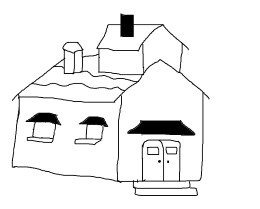chimney: (60, 38, 87, 75), (118, 3, 137, 40)
door: (136, 115, 187, 185)
open_window: (20, 108, 66, 146), (70, 111, 113, 149)
roof: (11, 49, 216, 101), (91, 18, 192, 50)
wall: (9, 92, 125, 188), (113, 89, 210, 186)
